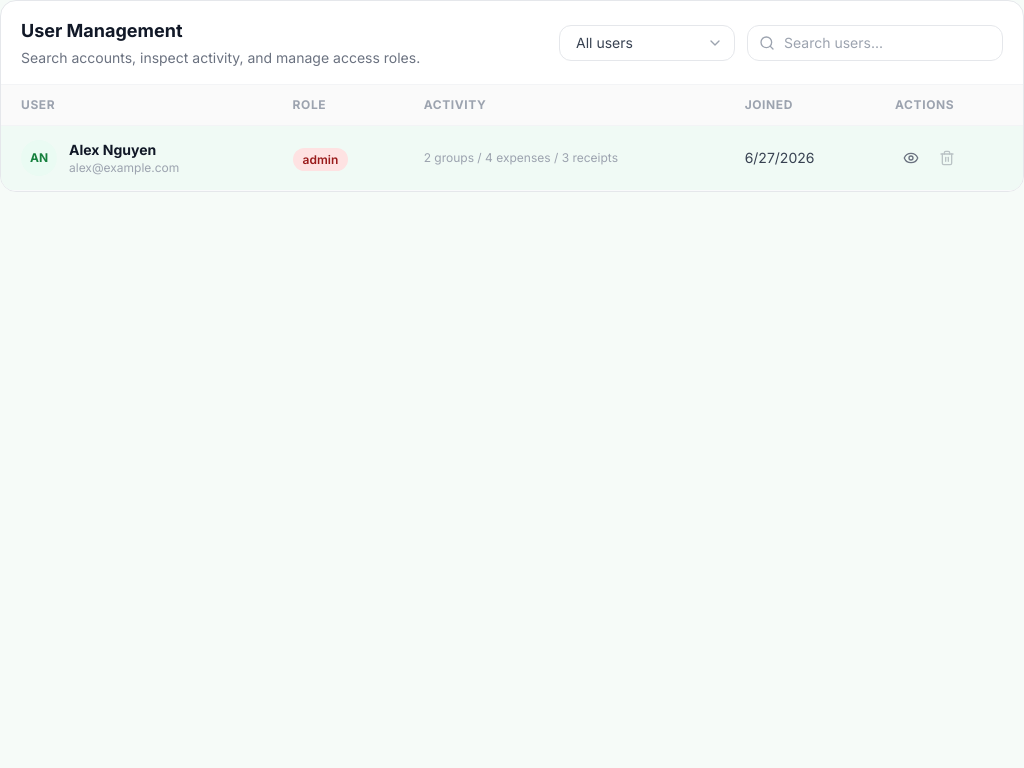
Test: AdminDashboardPage › disables destructive actions for the current admin account
Click the button titled "User Detail" at (911, 158), box [895, 142, 927, 174]
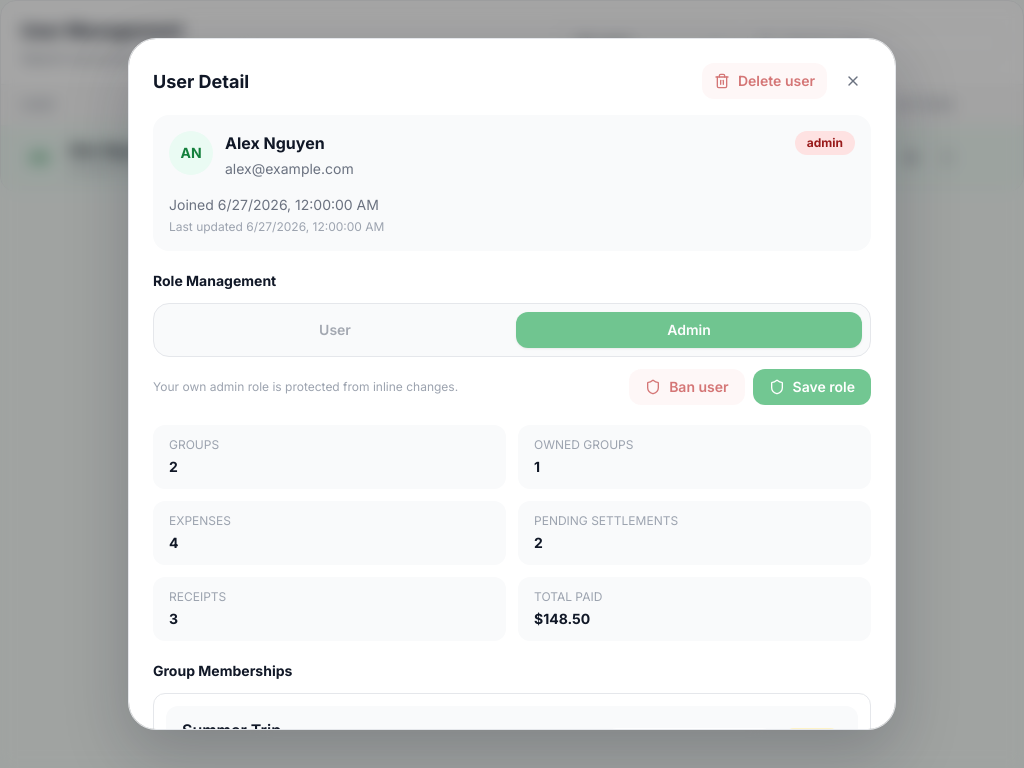
Expected: the button "Delete user" is disabled, [702, 63, 827, 99]
Expected: the button "Admin" is disabled, [516, 312, 862, 348]
Expected: the text "Your own admin role is protected from inline changes." is shown, [153, 379, 458, 395]
